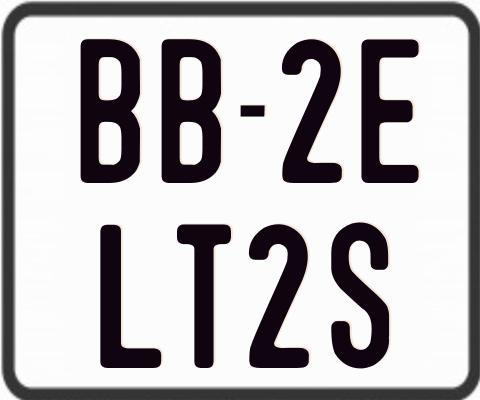2: (280, 38, 344, 183), (246, 221, 307, 366)
B: (160, 39, 222, 188), (79, 36, 138, 183)
E: (360, 38, 418, 185)
L: (99, 224, 162, 369)
S: (330, 219, 394, 369)
T: (176, 224, 236, 372)
